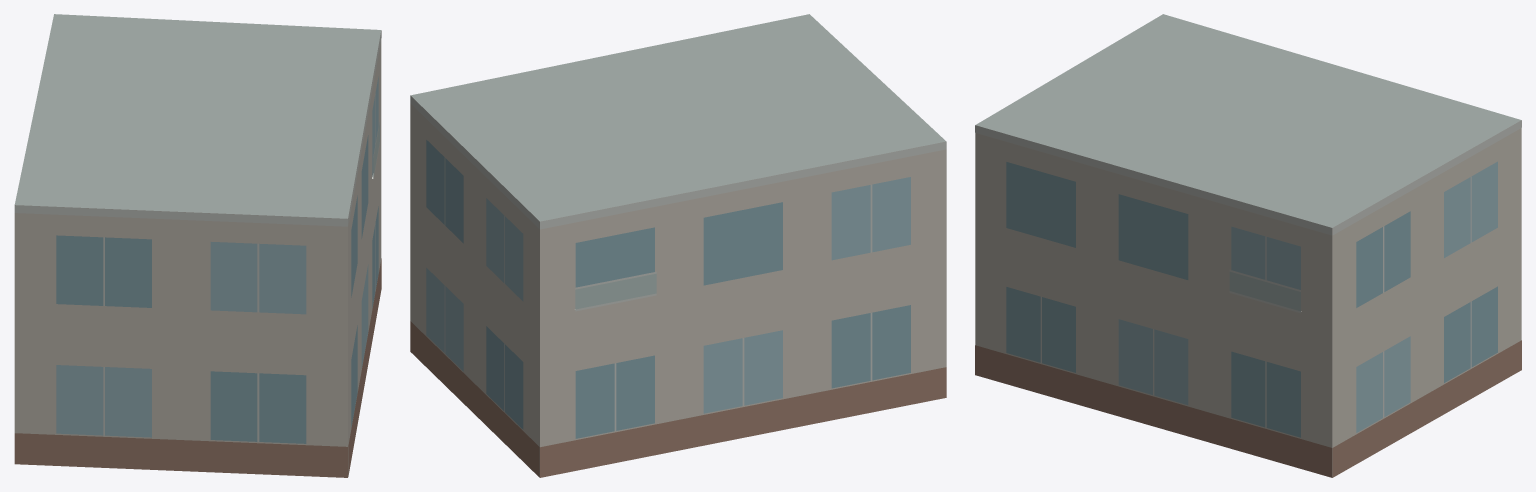
File: survey-upis-32836962.glb
The picture shows the model from 3 angles, left to right: view 1: azimuth 30°, elevation 25°; view 2: azimuth 150°, elevation 25°; view 3: azimuth 270°, elevation 25°; orthographic projection. The views are drawn at different scales.
Visible parts, largest first — view 1: survey-upis-32836962.tmp; view 2: survey-upis-32836962.tmp; view 3: survey-upis-32836962.tmp.
Boxes of the visible parts, box(x1,y1,x2,y2) form: survey-upis-32836962.tmp: box(14, 14, 381, 477); survey-upis-32836962.tmp: box(410, 14, 946, 477); survey-upis-32836962.tmp: box(975, 14, 1521, 477).
Bounding box in the file's own units: 14.6 × 7.95 × 15.77.
